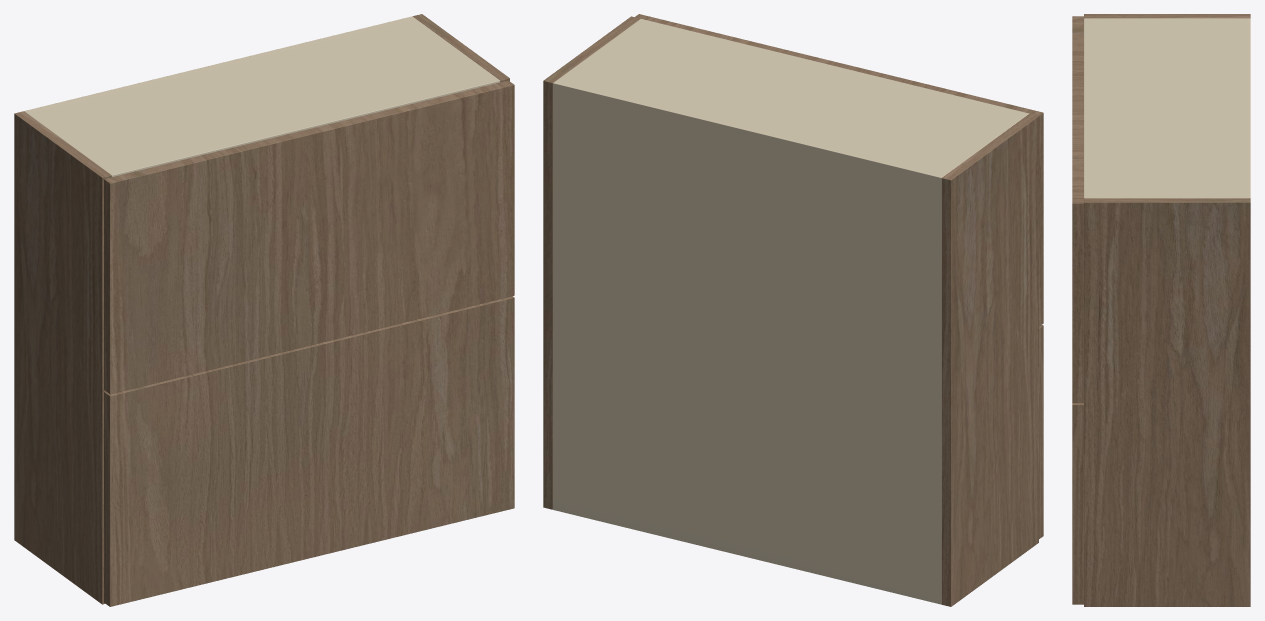
File: oppein-ply-mnw-wbf3030.glb
3 renders of one model, left to right at view 1: azimuth 30°, elevation 25°; view 2: azimuth 150°, elevation 25°; view 3: azimuth 270°, elevation 25°, orthographic. The views are drawn at different scales.
Visible parts, largest first — view 1: Door.001, Door, Cabinet side, Cabinet top, Cabinet back, Cabinet side.001; view 2: Cabinet back, Cabinet side, Cabinet top, Cabinet side.001, Cabinet bottom, Door.001, Door; view 3: Cabinet side.001, Cabinet top, Door.001, Door, Cabinet back, Cabinet side.
Boxes of the visible parts, x1,y1,x2,y2 form: Door.001: (104,80,514,394); Door: (104,296,514,606); Cabinet side: (14,111,111,604); Cabinet top: (24,16,500,176); Cabinet back: (25,16,415,113); Cabinet side.001: (413,14,509,82); Cabinet back: (553,80,944,604); Cabinet side: (941,113,1038,606); Cabinet top: (553,19,1029,186); Cabinet side.001: (543,16,640,509); Cabinet bottom: (553,500,941,604); Door.001: (635,14,1043,326); Door: (1039,325,1043,538); Cabinet side.001: (1084,198,1250,606); Cabinet top: (1084,18,1250,198); Door.001: (1072,16,1083,402); Door: (1072,403,1083,604); Cabinet back: (1244,18,1250,198); Cabinet side: (1084,14,1250,18).
Bounding box in the file's own units: 0.762 × 0.762 × 0.3048.
Materials: 2 (1 with a texture image).
